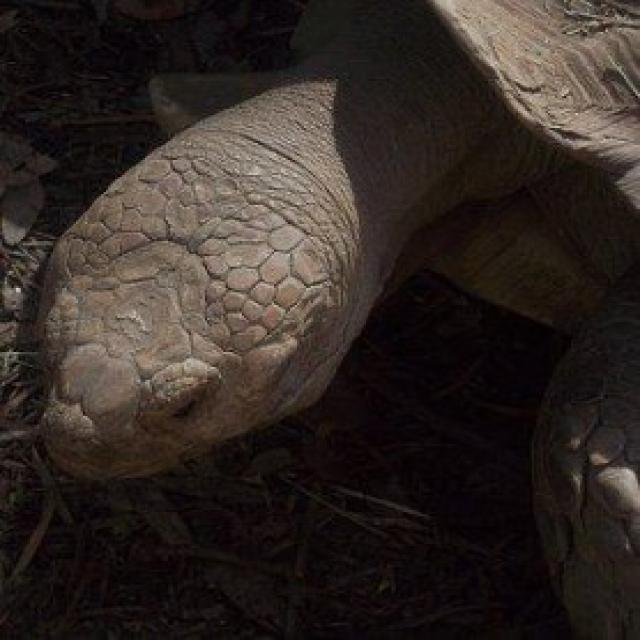Sea turtle: (23, 21, 640, 636)
